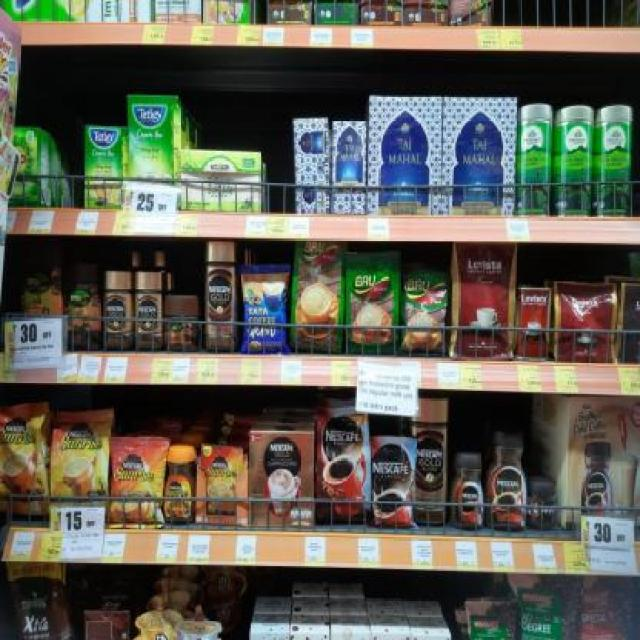Coffee: (51, 415, 109, 516), (319, 416, 372, 524), (0, 405, 48, 520), (111, 438, 164, 522), (488, 429, 528, 533), (415, 399, 447, 524), (372, 438, 414, 528), (205, 240, 235, 351), (164, 448, 196, 524), (454, 455, 486, 530), (106, 273, 131, 349), (135, 273, 160, 349), (529, 481, 554, 527)
